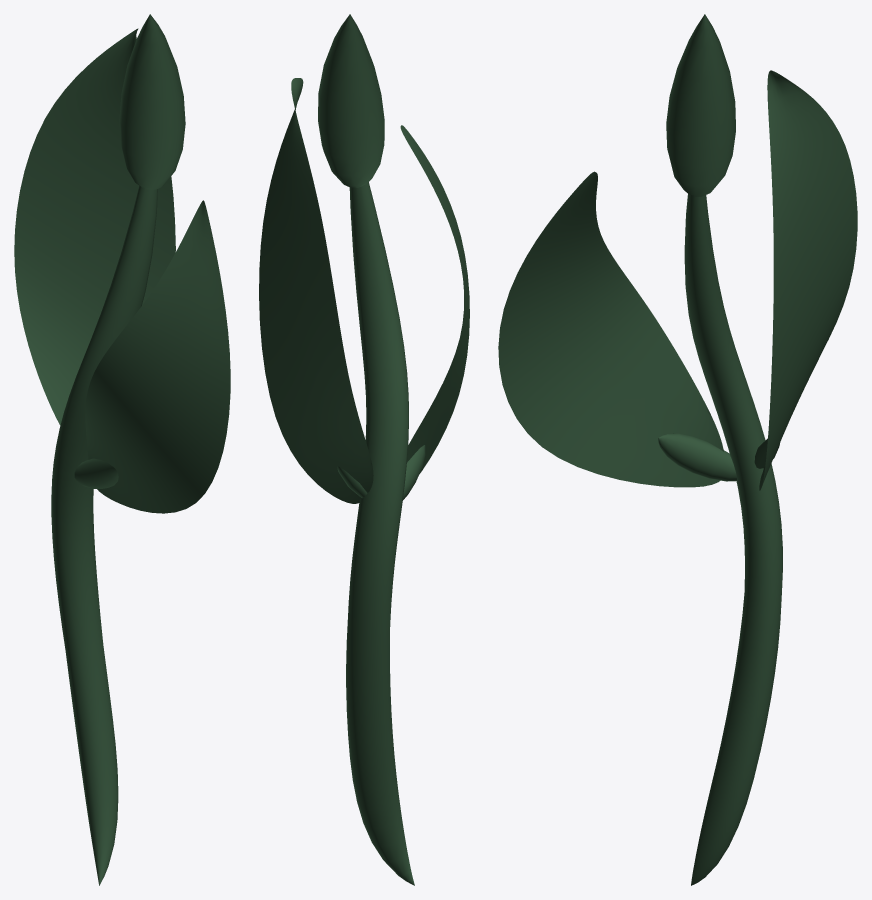
The model's file is plant011.glb.
The picture shows the model from 3 angles, left to right: view 1: azimuth 30°, elevation 25°; view 2: azimuth 150°, elevation 25°; view 3: azimuth 270°, elevation 25°; orthographic projection. The views are drawn at different scales.
Visible parts, largest first — view 1: s.0017, s.0019, s.0022, s.0026, s.0023; view 2: s.0022, s.0017, s.0026, s.0019, s.0023; view 3: s.0019, s.0022, s.0017, s.0026, s.0023.
Boxes of the visible parts, box(x1,y1,x2,y2) form: s.0017: box(14, 28, 175, 425); s.0019: box(85, 200, 230, 513); s.0022: box(51, 186, 157, 885); s.0026: box(119, 14, 185, 190); s.0023: box(74, 458, 118, 488); s.0022: box(346, 182, 414, 885); s.0017: box(259, 78, 373, 503); s.0026: box(318, 14, 384, 188); s.0019: box(400, 125, 469, 474); s.0023: box(402, 445, 425, 500); s.0019: box(498, 171, 723, 487); s.0022: box(684, 194, 782, 885); s.0017: box(759, 70, 857, 490); s.0026: box(666, 14, 735, 196); s.0023: box(658, 433, 736, 481).
Size of the model in its own units: 0.0249 by 0.1445 by 0.0522.
